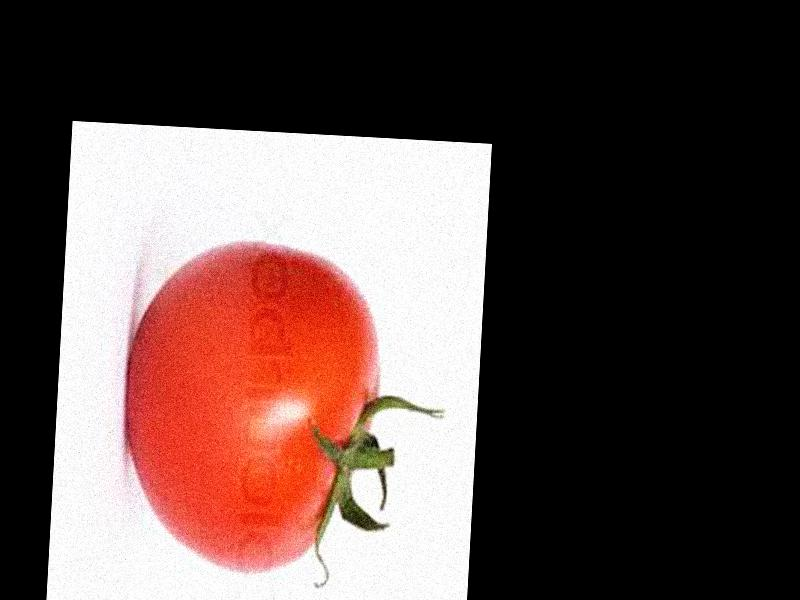Tomato: (120, 236, 387, 575)
